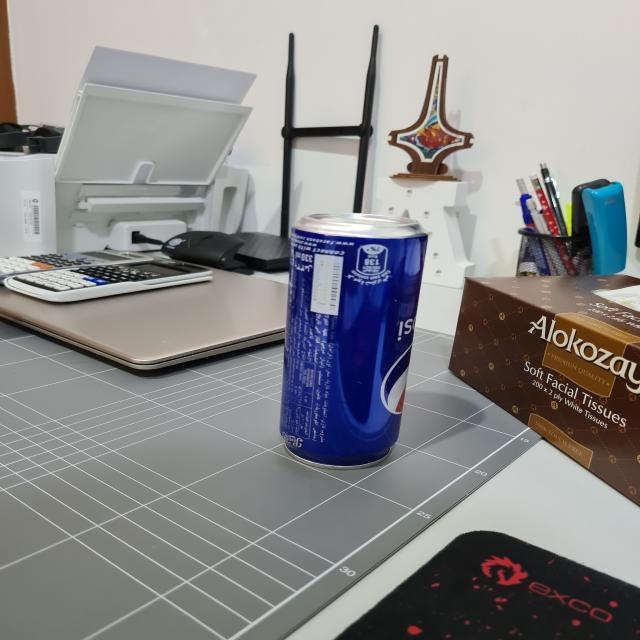can: (263, 208, 435, 467)
